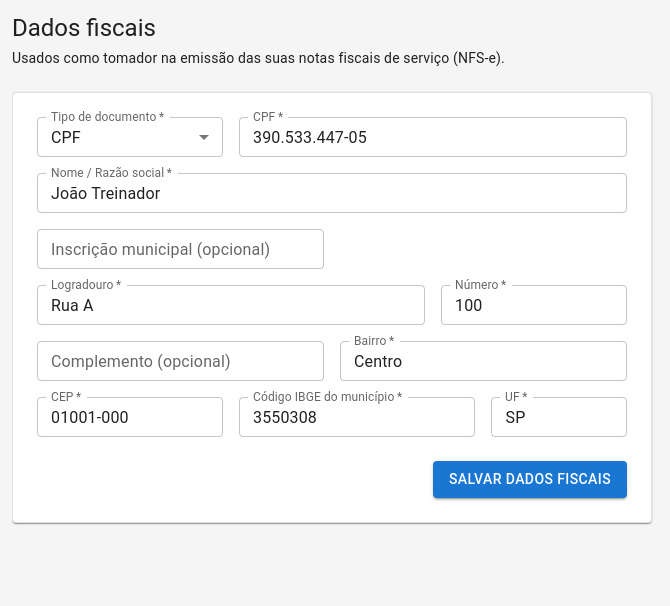
Test: DadosFiscaisTreinadorPage › carrega dados existentes e salva com sucesso
Check: the field labelled "Nome / Razão social *" holds "João Treinador", box left=37, top=173, right=627, bottom=213
Click the button "Salvar dados fiscais" at point(530, 479), box left=433, top=461, right=627, bottom=498
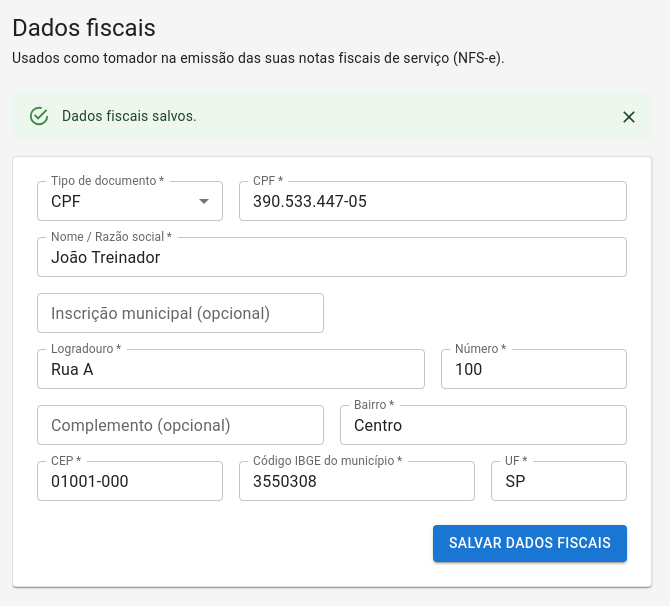
Check: the text "Dados fiscais salvos." is shown, box left=62, top=108, right=197, bottom=124
